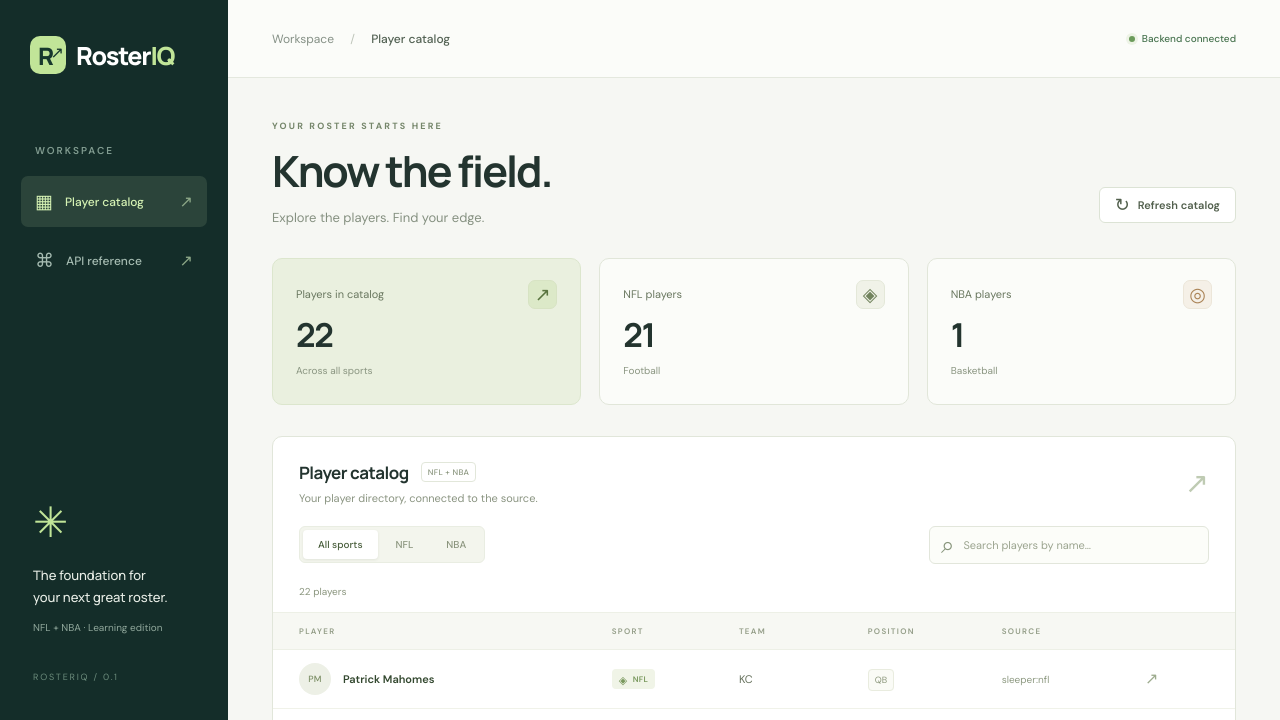
Test: player catalog › searches by name, shows empty results, and clears filters
The width and height of the screenshot is (1280, 720).
Expected: the button "PM Patrick Mahomes" is shown, [299, 663, 434, 695]
In the field labelled "Search players by name": (1080, 545) [964, 527, 1197, 563], type "mahomes"
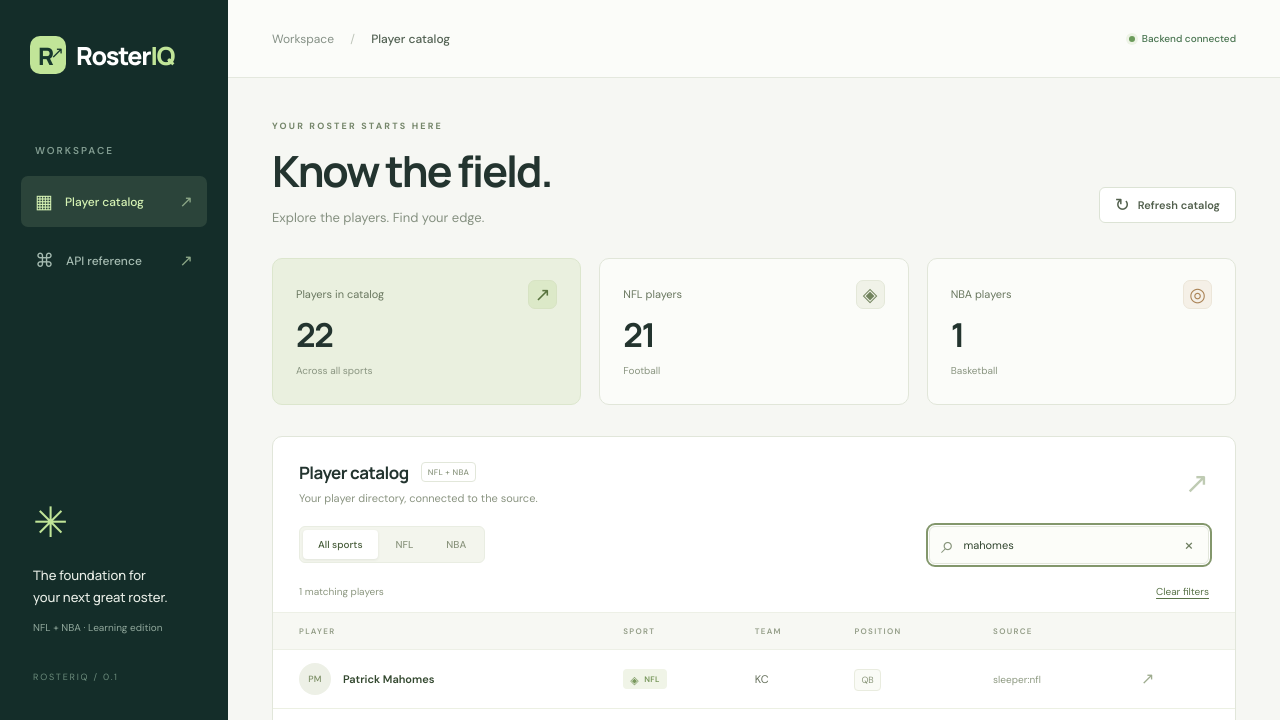
Expected: the button "PM Patrick Mahomes" is shown, [299, 663, 434, 695]
Expected: the text "1 matching players" is shown, [299, 585, 384, 598]
Clear the field named "Search players by name": (1068, 545) [964, 527, 1172, 563]
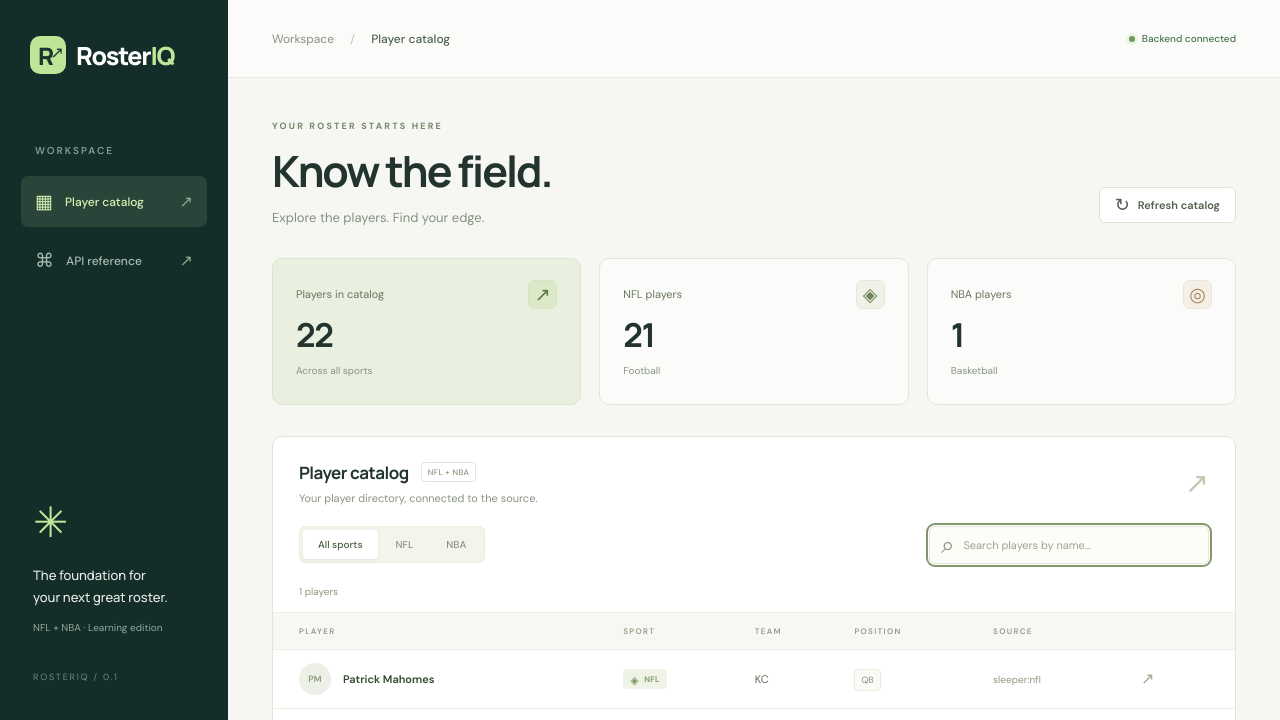
In the field labelled "Search players by name": (1080, 545) [964, 527, 1197, 563], type "nobody"
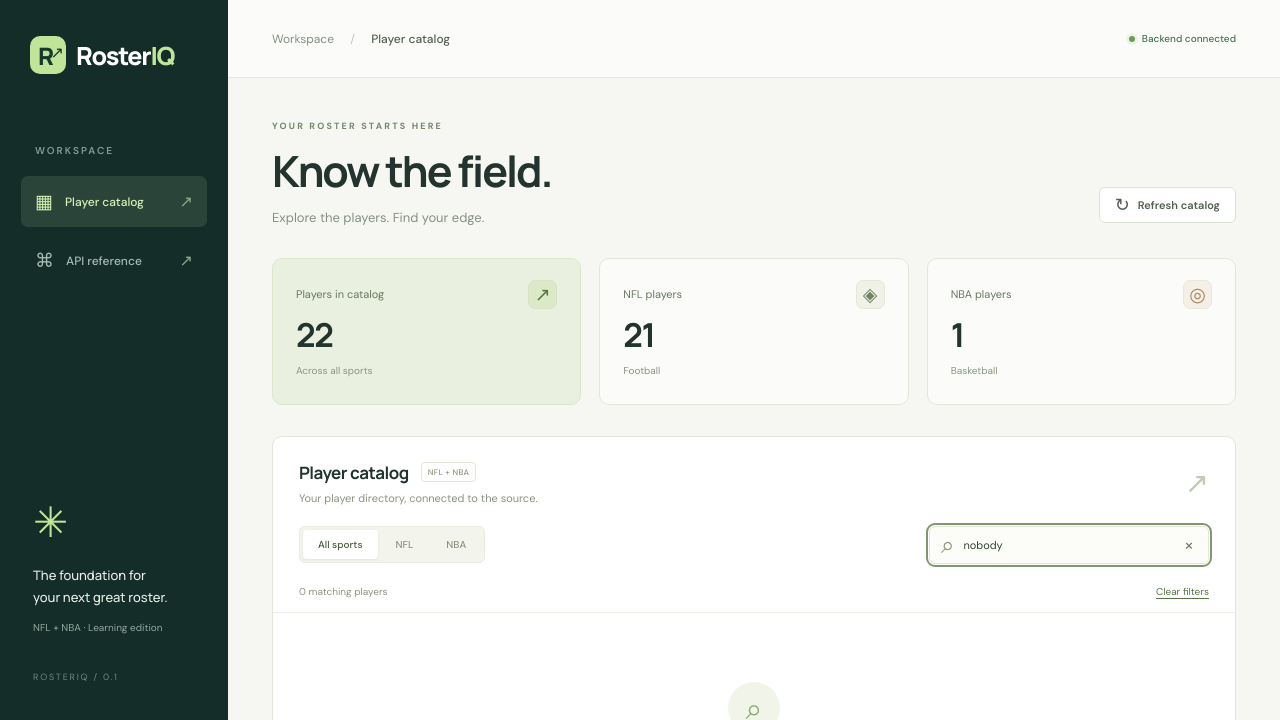
Click the button "Clear filters": (1183, 591) [1156, 585, 1209, 598]
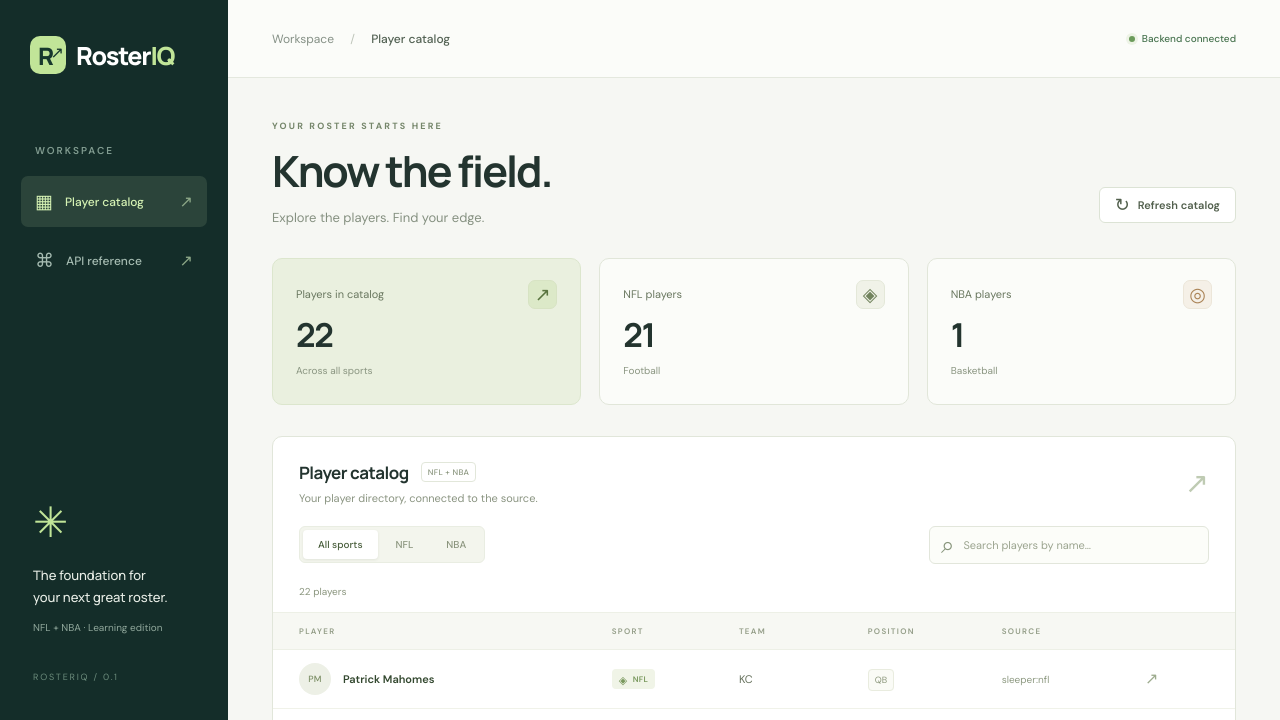
Expected: the text "22 players" is shown, [299, 585, 346, 598]
